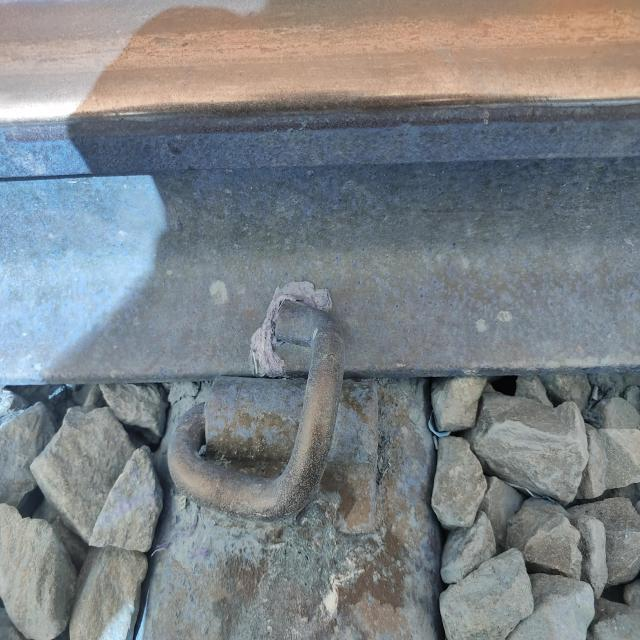Good Fasteners: (168, 300, 378, 534)
